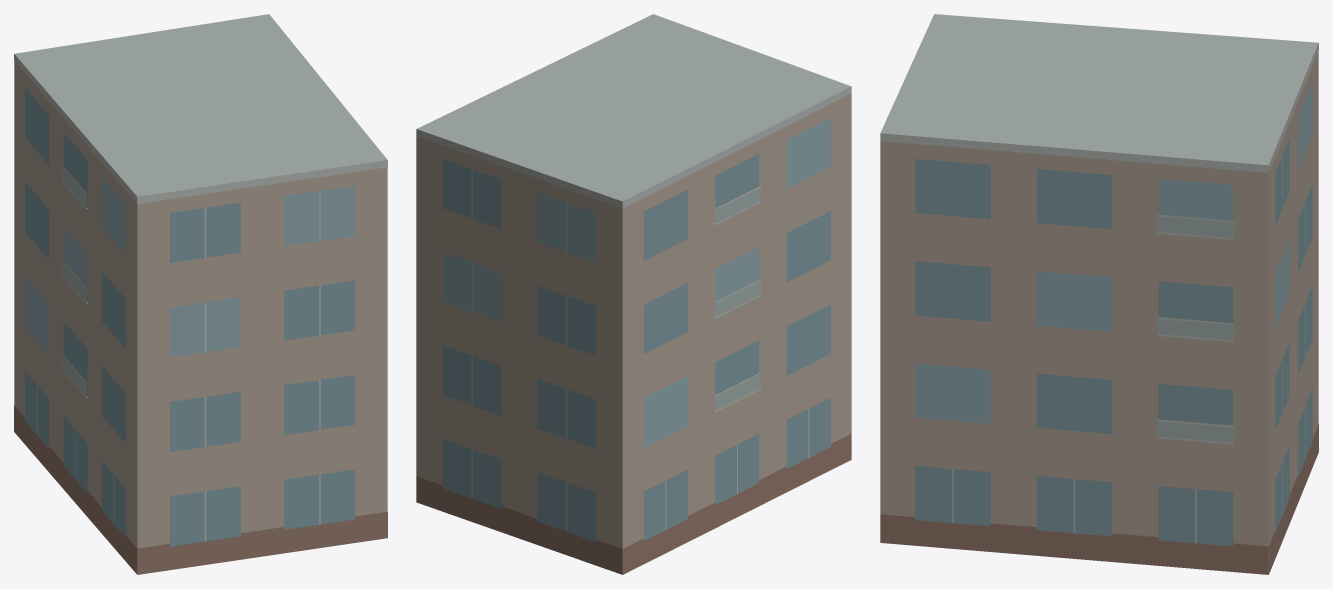
Rendered from survey-upis-32587580.glb.
The picture shows the model from 3 angles, left to right: view 1: azimuth 30°, elevation 25°; view 2: azimuth 150°, elevation 25°; view 3: azimuth 270°, elevation 25°; orthographic projection. The views are drawn at different scales.
Visible parts, largest first — view 1: survey-upis-32587580.tmp; view 2: survey-upis-32587580.tmp; view 3: survey-upis-32587580.tmp.
Part boxes in pixels (x1,y1,x2,y2): survey-upis-32587580.tmp: [14, 14, 387, 574]; survey-upis-32587580.tmp: [416, 14, 851, 574]; survey-upis-32587580.tmp: [880, 14, 1318, 574].
Bounding box in the file's own units: 10.15 × 12.8 × 12.43.
